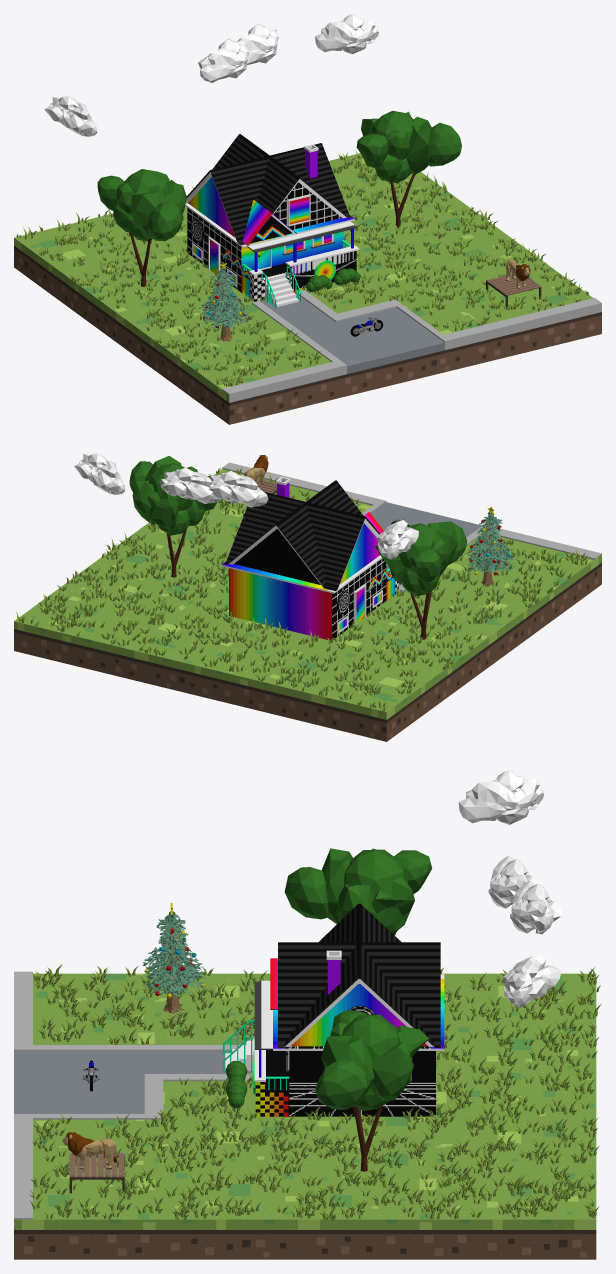
3 renders of one model, top to bottom at view 1: azimuth 30°, elevation 25°; view 2: azimuth 150°, elevation 25°; view 3: azimuth 270°, elevation 25°, orthographic. The views are drawn at different scales.
Visible parts, largest first — view 1: Cube.006, Cube.1320, Circle.012_Grass_0.192, Cube.007, tree, tree.001, OBJRANDOM_CHRISTMAS_TREE, Cube.009; view 2: Cube.006, Cube.1320, Circle.012_Grass_0.192, Cube.007, tree.001, tree, OBJRANDOM_CHRISTMAS_TREE, ANIMAL_LEON; view 3: Cube.006, Circle.012_Grass_0.192, Cube.1320, tree, Cube.007, tree.001, OBJRANDOM_CHRISTMAS_TREE, Cube.009, ANIMAL_LEON.
Part boxes in pixels (<box>): Cube.006: <box>14,153,601,424</box>; Cube.1320: <box>185,134,359,308</box>; Circle.012_Grass_0.192: <box>16,150,588,386</box>; Cube.007: <box>44,14,378,136</box>; tree: <box>356,110,461,228</box>; tree.001: <box>97,169,186,286</box>; OBJRANDOM_CHRISTMAS_TREE: <box>199,262,249,341</box>; Cube.009: <box>486,274,541,306</box>; Cube.006: <box>14,462,601,741</box>; Cube.1320: <box>221,477,398,640</box>; Circle.012_Grass_0.192: <box>16,468,588,711</box>; Cube.007: <box>74,453,418,559</box>; tree.001: <box>375,521,467,639</box>; tree: <box>129,456,216,577</box>; OBJRANDOM_CHRISTMAS_TREE: <box>465,506,512,587</box>; ANIMAL_LEON: <box>244,455,268,484</box>; Cube.006: <box>14,971,596,1259</box>; Circle.012_Grass_0.192: <box>29,964,601,1220</box>; Cube.1320: <box>223,903,444,1116</box>; tree: <box>315,1010,428,1171</box>; Cube.007: <box>458,770,561,1007</box>; tree.001: <box>284,848,432,935</box>; OBJRANDOM_CHRISTMAS_TREE: <box>142,903,205,1014</box>; Cube.009: <box>69,1153,124,1193</box>; ANIMAL_LEON: <box>62,1131,117,1169</box>.
Bounding box in the file's own units: 4071 × 2176 × 4040.
Materials: 36 (5 with a texture image).
